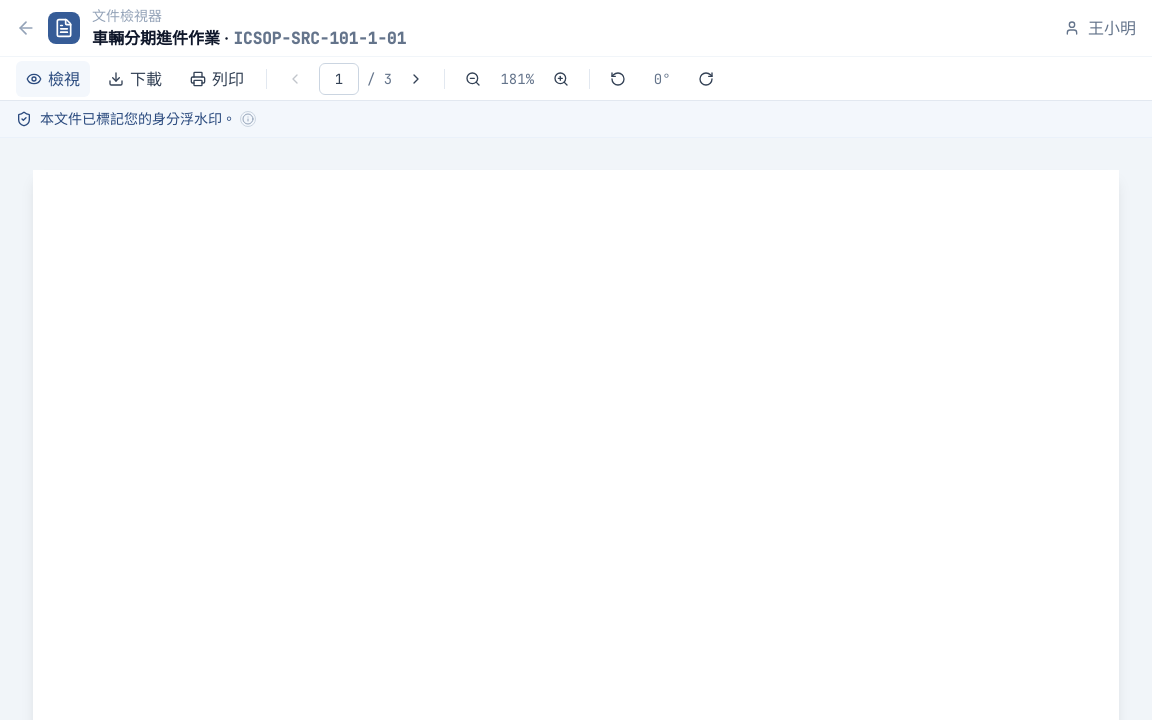
Scenario: PublicViewerPage — 逐頁旋轉（2026-08-26 UX ①） › 按右旋 → 以新 rotation **重新 render**（非 CSS transform）
The image size is (1164, 720).
Click the button named "向右旋轉 90 度": [706, 78] box left=690, top=62, right=722, bottom=94
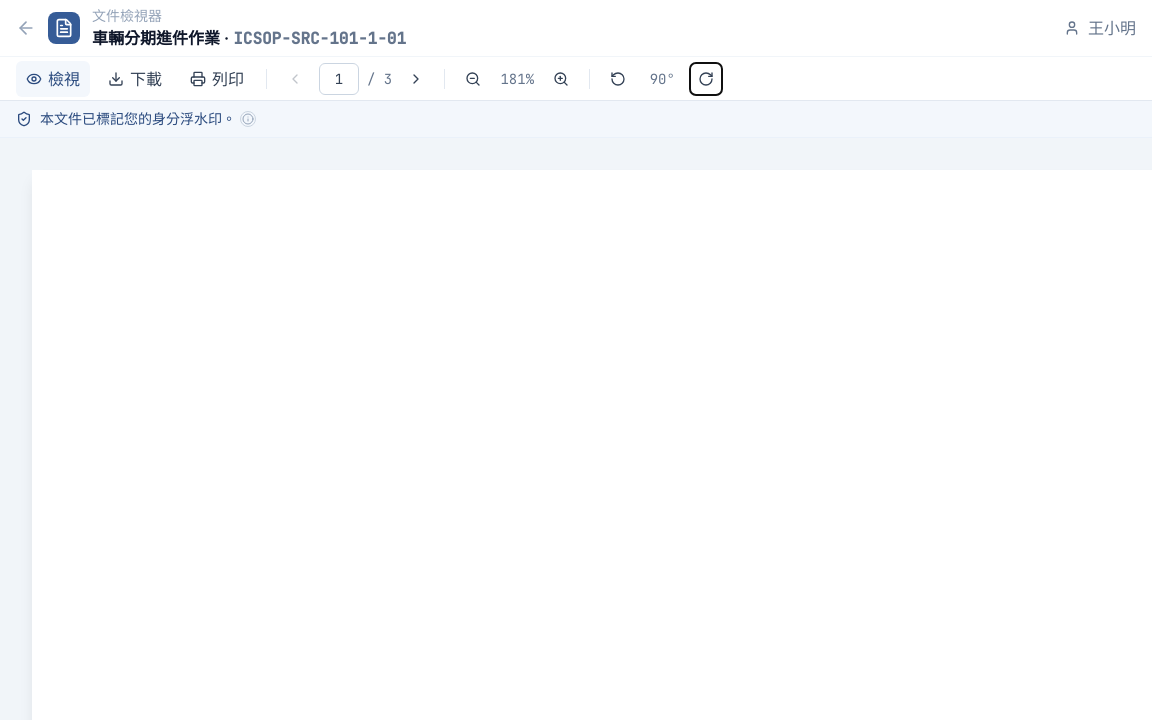
Expected: the text with test id "rotate-label" reads "90°", left=650, top=70, right=675, bottom=88
